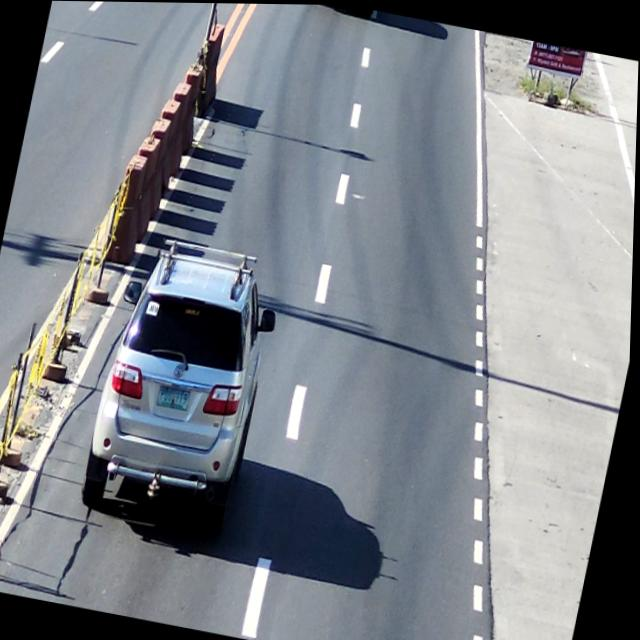Car: (81, 243, 284, 534)
License-Plate: (156, 379, 196, 414)
